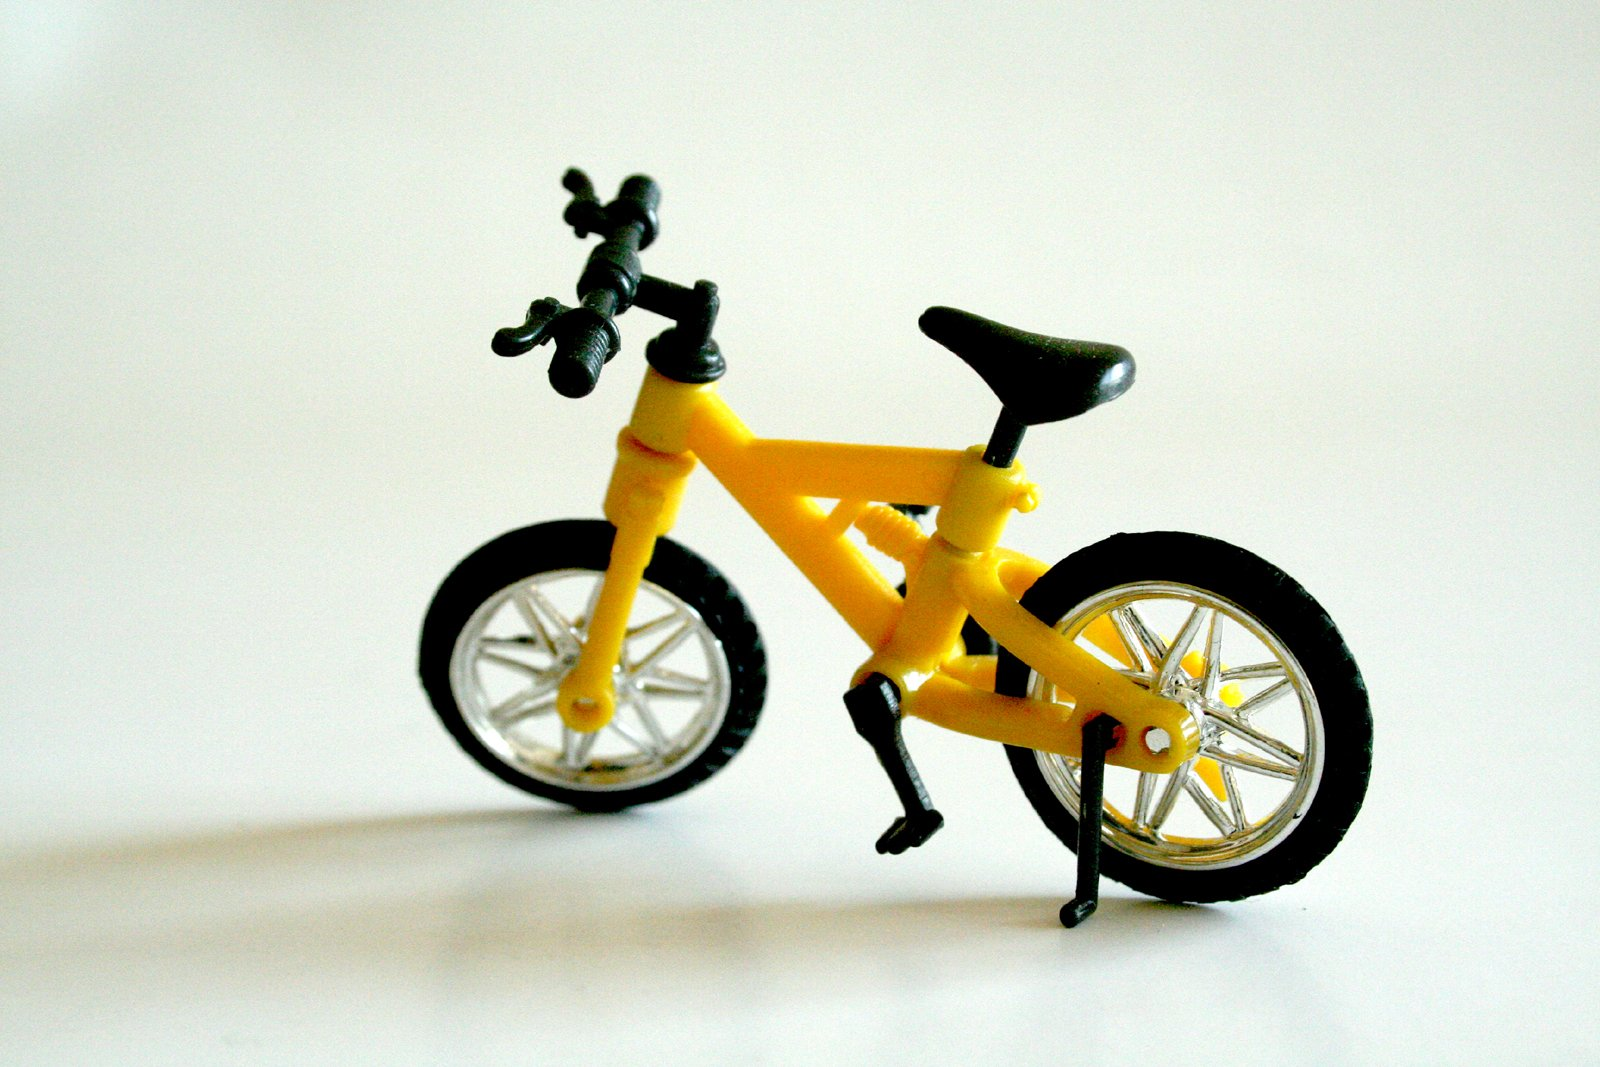Bicycle: (17, 67, 1561, 1035)
